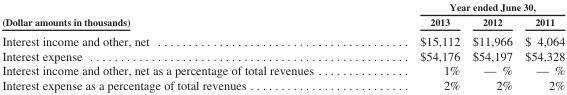table: (1, 0, 564, 91)
table column: (1, 0, 366, 91), (366, 0, 465, 91), (465, 0, 518, 91), (518, 0, 564, 91)
table column header: (1, 0, 564, 30)
table row: (1, 30, 564, 47), (1, 14, 564, 30), (1, 47, 564, 62), (1, 62, 564, 77), (1, 0, 564, 14), (1, 77, 564, 91)
table spanning cell: (1, 0, 366, 30), (366, 0, 564, 14)
